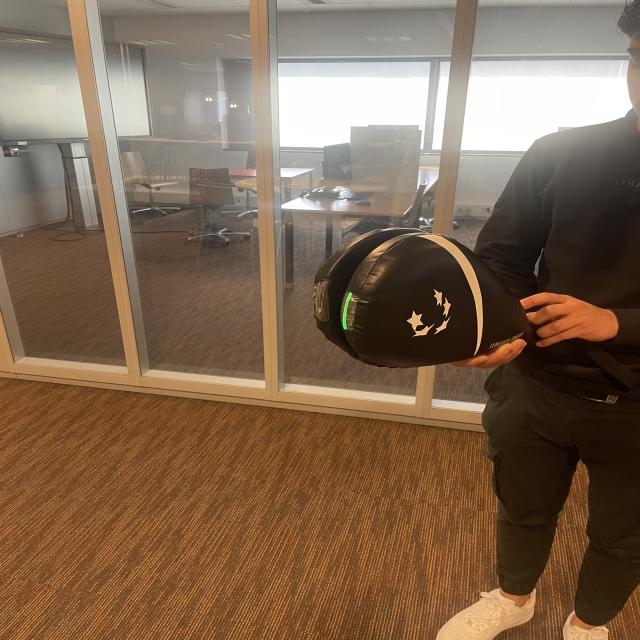paddle: (307, 229, 501, 366)
trigger: (338, 290, 358, 333)
